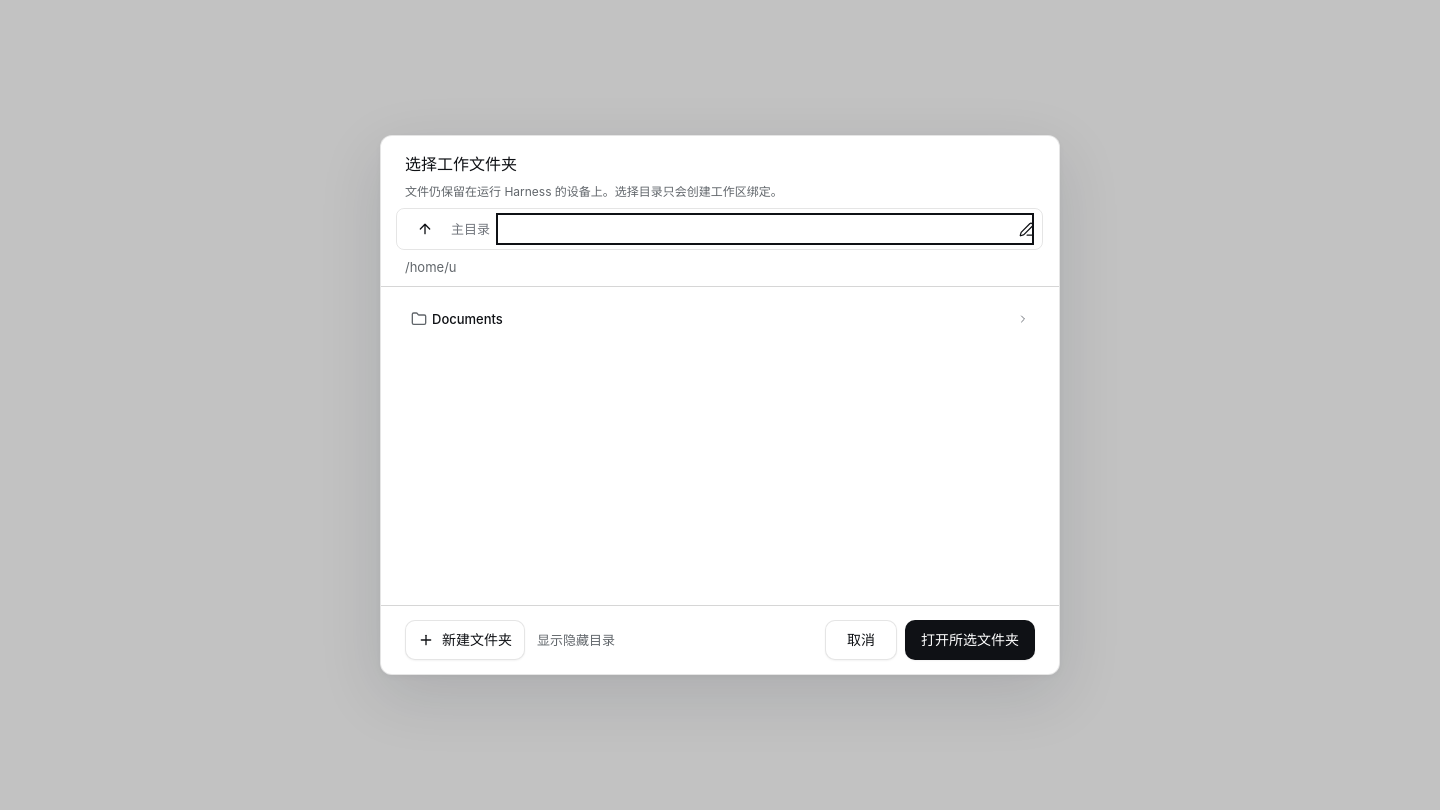
Test: DirectoryBrowser navigation › shows the actual home path and navigates above home without editing it
Expected: the text "/home/u" is shown, top-left (405, 259), bottom-right (456, 275)
Click the button named "上级目录": (425, 229) top-left (405, 209), bottom-right (445, 249)
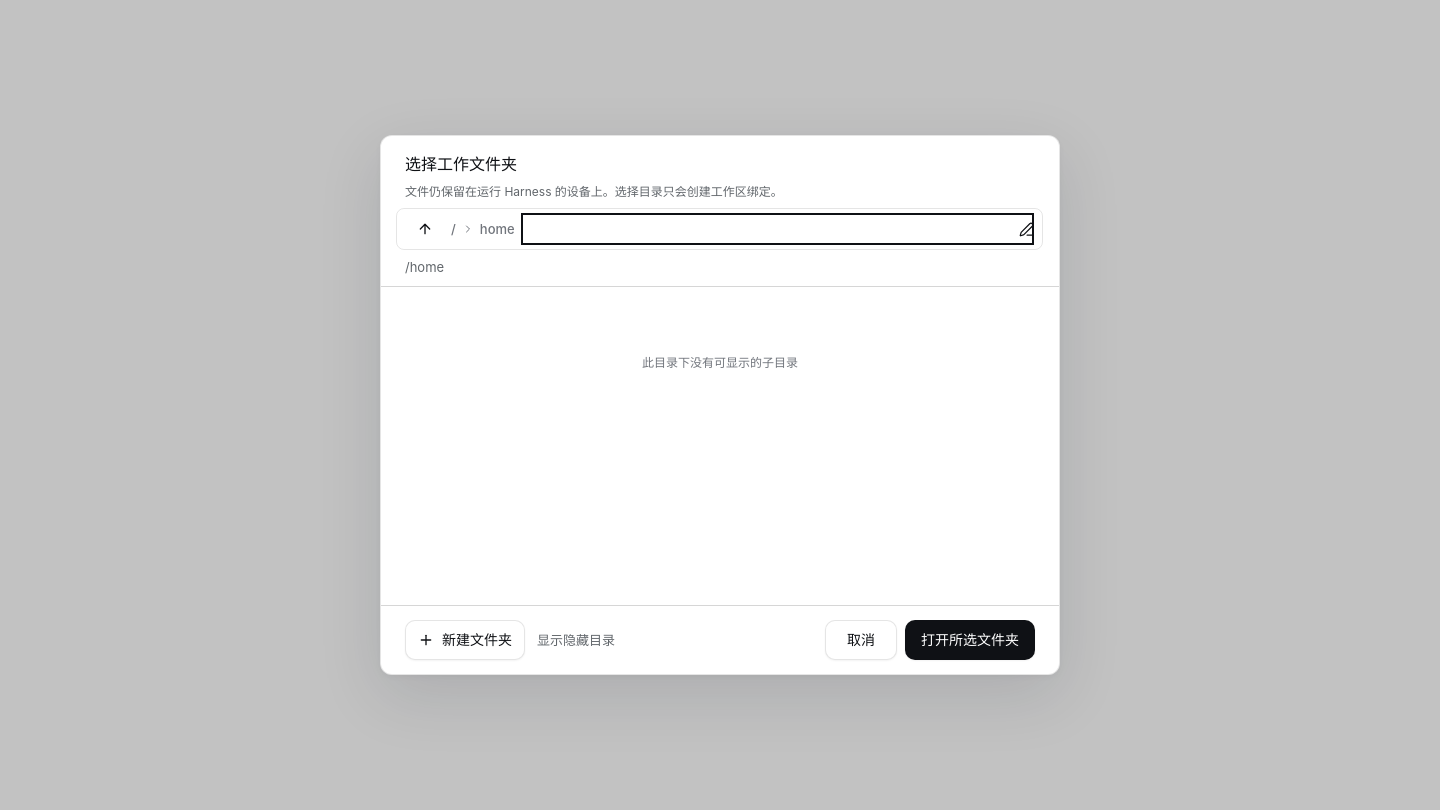
Click the button named "上级目录": (425, 229) top-left (405, 209), bottom-right (445, 249)
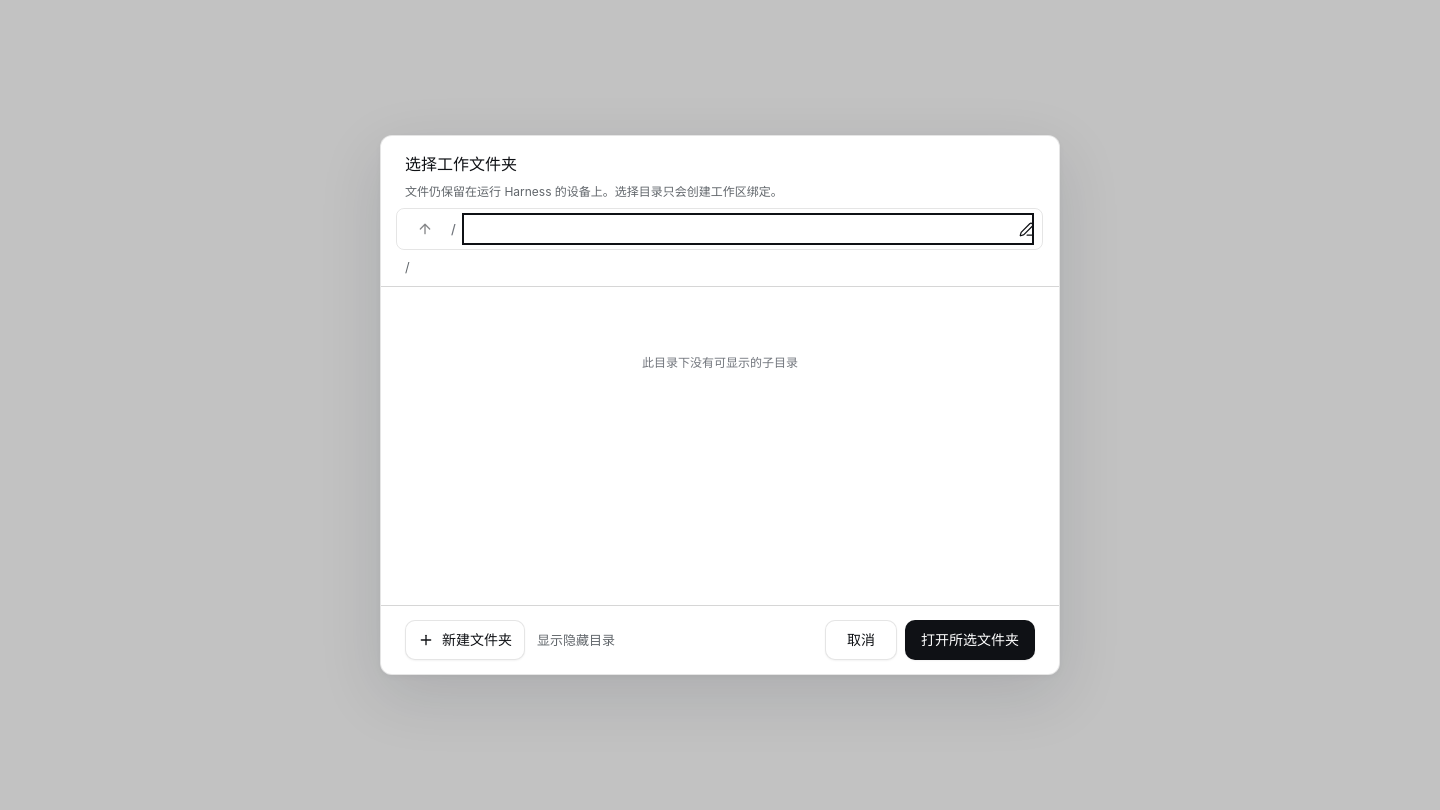
Expected: the text "/" is shown, top-left (405, 259), bottom-right (410, 275)
Now the button named "上级目录" is disabled, box top-left (405, 209), bottom-right (445, 249)
